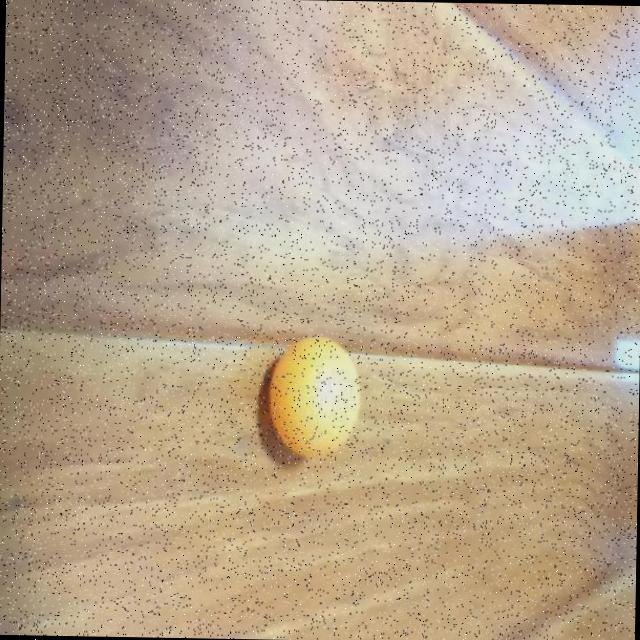ping-pong-ball: (268, 335, 360, 459)
